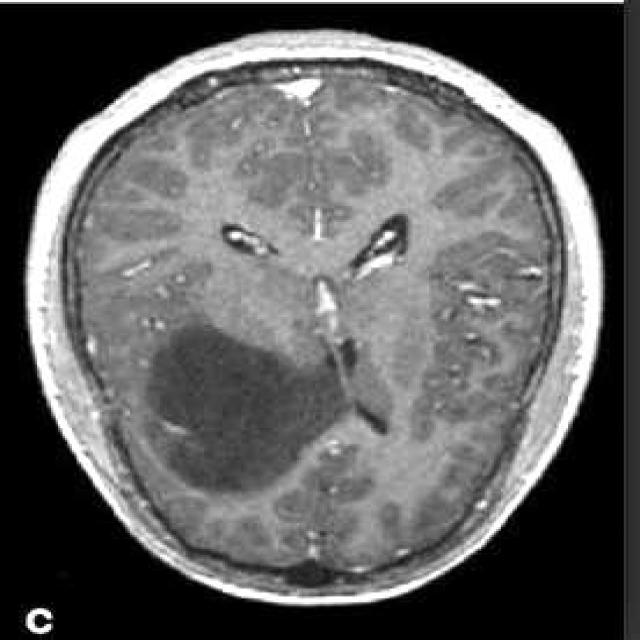Tumor-Cell: (131, 300, 356, 484)
